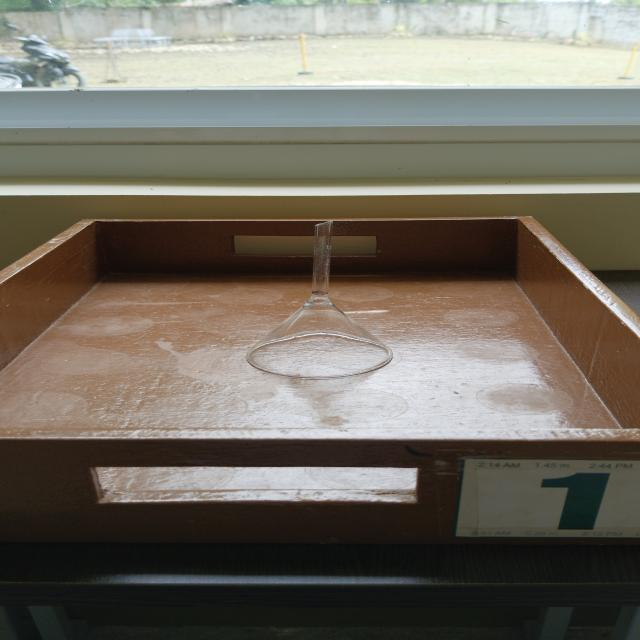funnel: (224, 217, 413, 381)
